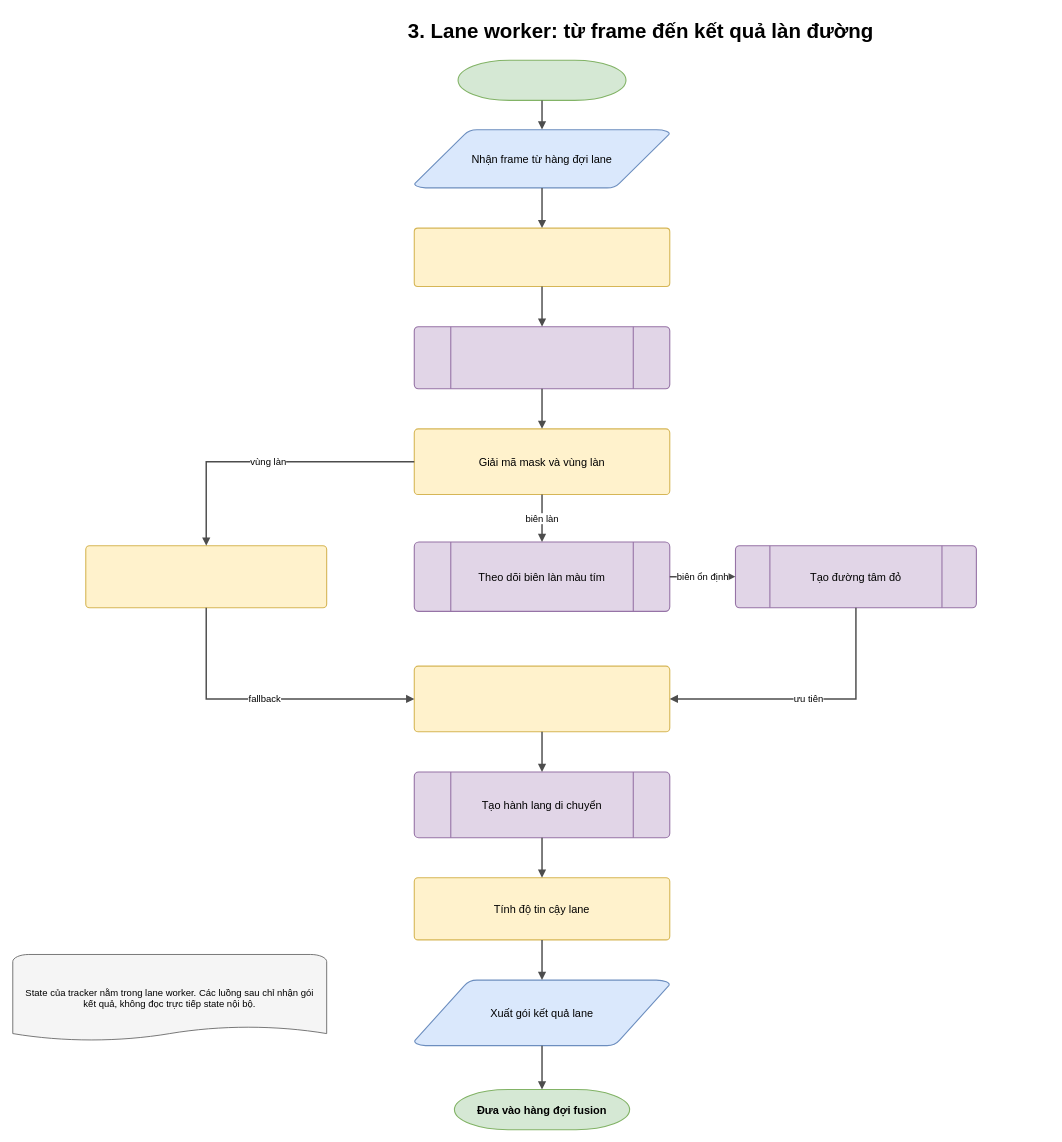
Image size: 1062x1142. Some labels were removed from this diagram. Here are the shapes that lost their labels. From the top down, the centre of each, then its label:
At point 541,80: "Bắt đầu lane worker".
At point 541,257: "Chuẩn bị ảnh cho mô hình lane".
At point 541,357: "Chạy mô hình phân đoạn làn".
At point 206,576: "Lấy đường giữa từ vùng làn".
At point 541,698: "Chọn đường đi ổn định".
